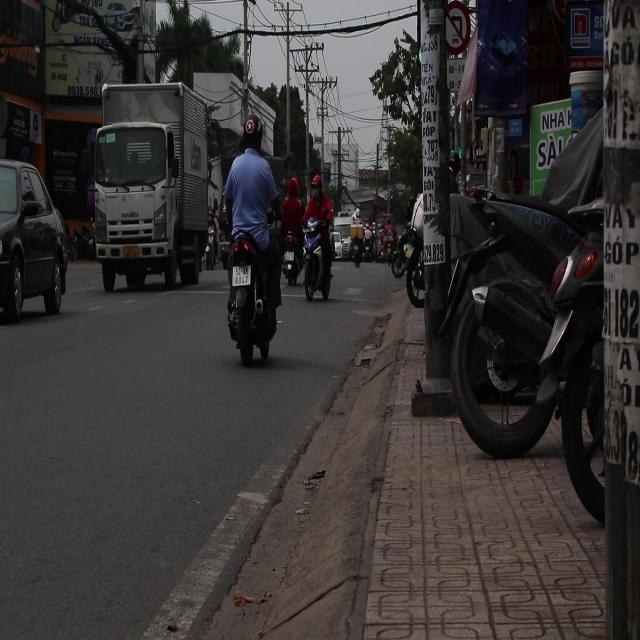car: (1, 158, 74, 322)
motorbike: (224, 205, 280, 370), (298, 199, 335, 309), (280, 222, 303, 289)
truck: (88, 81, 228, 292)
